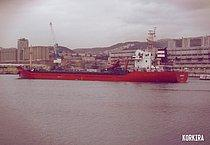Ship: (18, 52, 193, 89)
